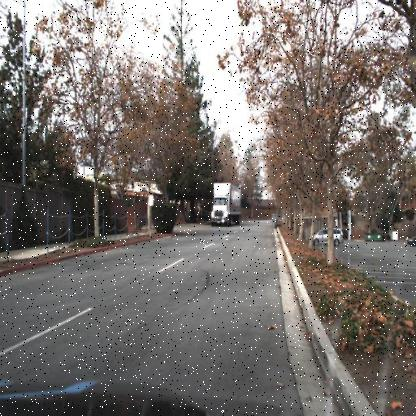car: (310, 224, 344, 247), (405, 232, 415, 247)
truck: (209, 181, 243, 225)
